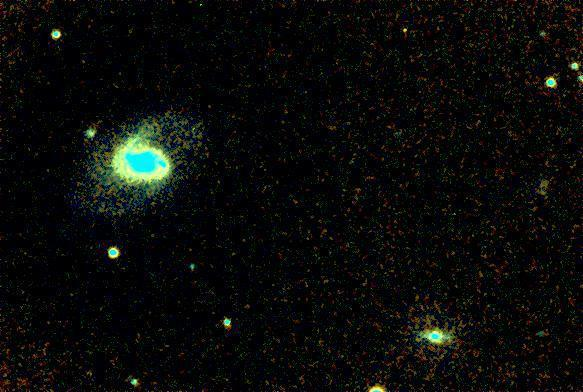star: (389, 13, 419, 43)
